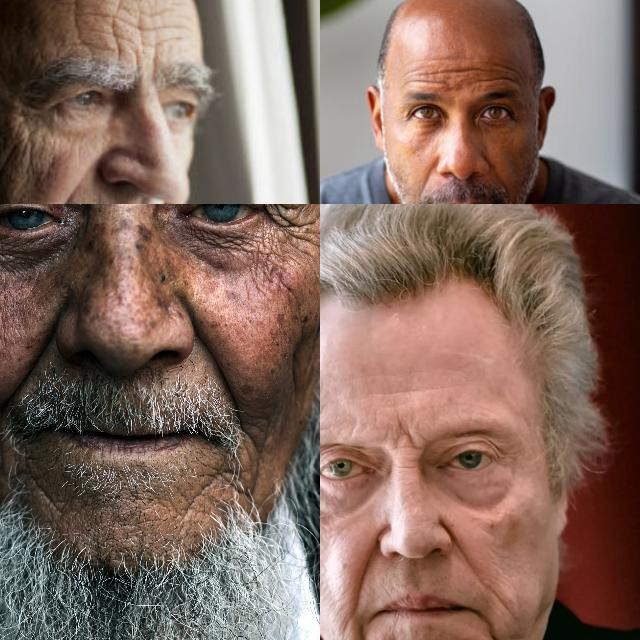chin: (197, 456, 241, 506), (23, 472, 68, 512)
crows_feet: (273, 204, 311, 256), (8, 99, 49, 135)
forehead: (113, 8, 167, 42), (459, 59, 519, 85), (60, 0, 90, 41), (408, 60, 444, 90), (376, 381, 424, 401)
frown_line: (388, 420, 419, 462), (132, 52, 158, 84)
gummy_smile: (180, 297, 233, 385), (20, 310, 68, 382), (346, 538, 382, 600), (438, 514, 470, 564), (484, 158, 510, 190), (419, 158, 439, 190), (50, 182, 74, 204)
masseter: (284, 339, 312, 407), (489, 584, 521, 616), (0, 146, 15, 197)
sad_smile: (229, 400, 265, 446), (0, 403, 16, 462), (484, 620, 505, 640), (352, 622, 372, 640)
